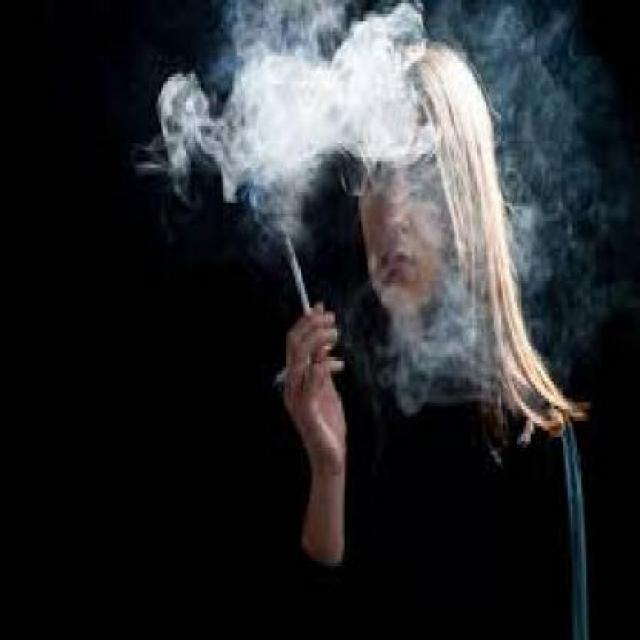cigarette: (282, 234, 318, 318)
